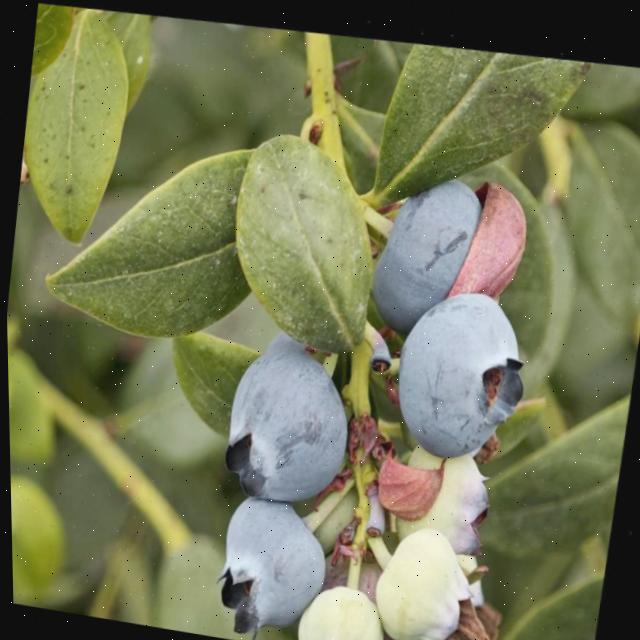RipeBlueBerry: (200, 295, 387, 509), (380, 270, 544, 466), (194, 475, 341, 640)
UnripeBlueBerry: (368, 503, 497, 640)
